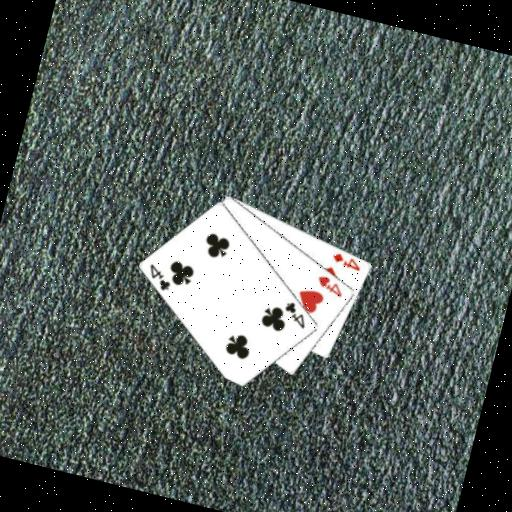4C: (278, 297, 312, 331), (142, 260, 176, 294)
4D: (328, 248, 365, 273)
4H: (312, 271, 348, 300)
